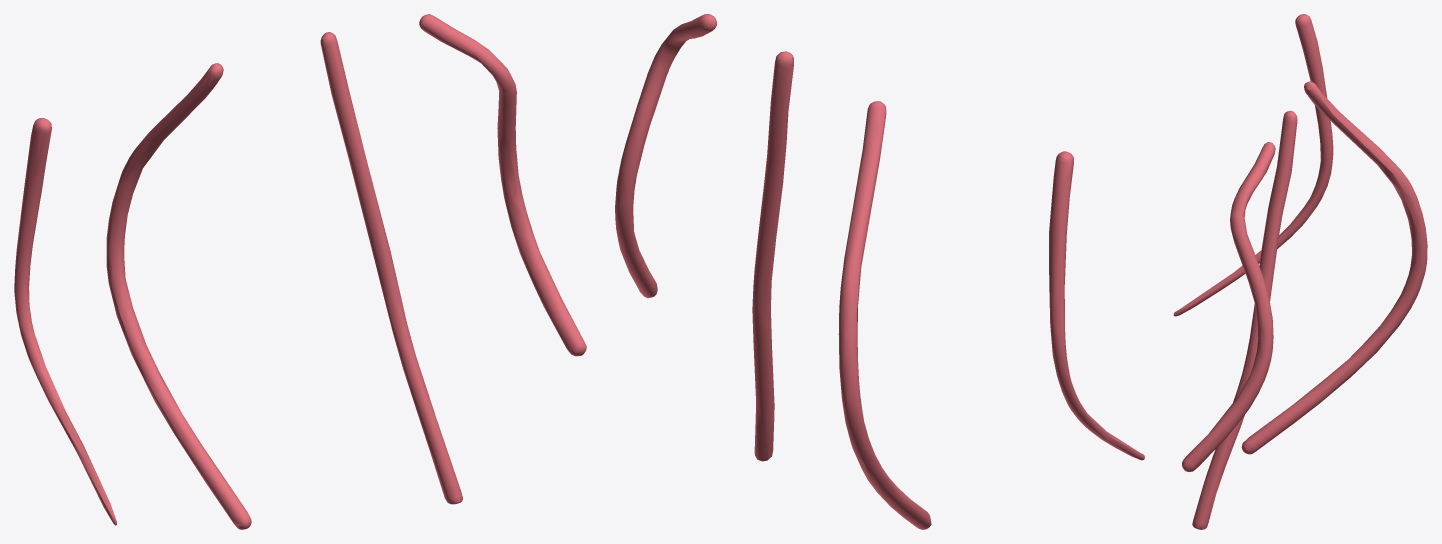
File: fma22865_fj2237.glb
3 views of the same model, side by side, from view 1: azimuth 30°, elevation 25°; view 2: azimuth 150°, elevation 25°; view 3: azimuth 270°, elevation 25° (orthographic). The views are drawn at different scales.
Parts seen in each view (by area): view 1: FMA22865_FJ2237; view 2: FMA22865_FJ2237; view 3: FMA22865_FJ2237.
Boxes of the visible parts, x1,y1,x2,y2 form: FMA22865_FJ2237: (14, 14, 586, 529); FMA22865_FJ2237: (615, 14, 1144, 529); FMA22865_FJ2237: (1173, 14, 1427, 529).
Bounding box in the file's own units: 0.0424 × 0.0379 × 0.0222.
